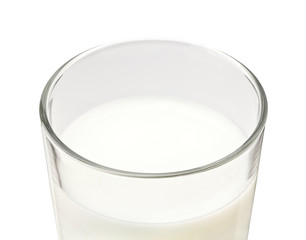glass of milk: (40, 40, 256, 239)
